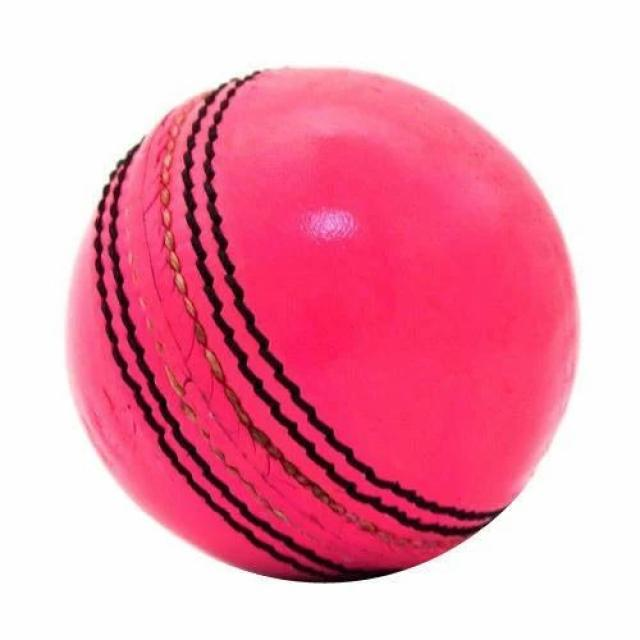ball: (59, 61, 582, 585)
